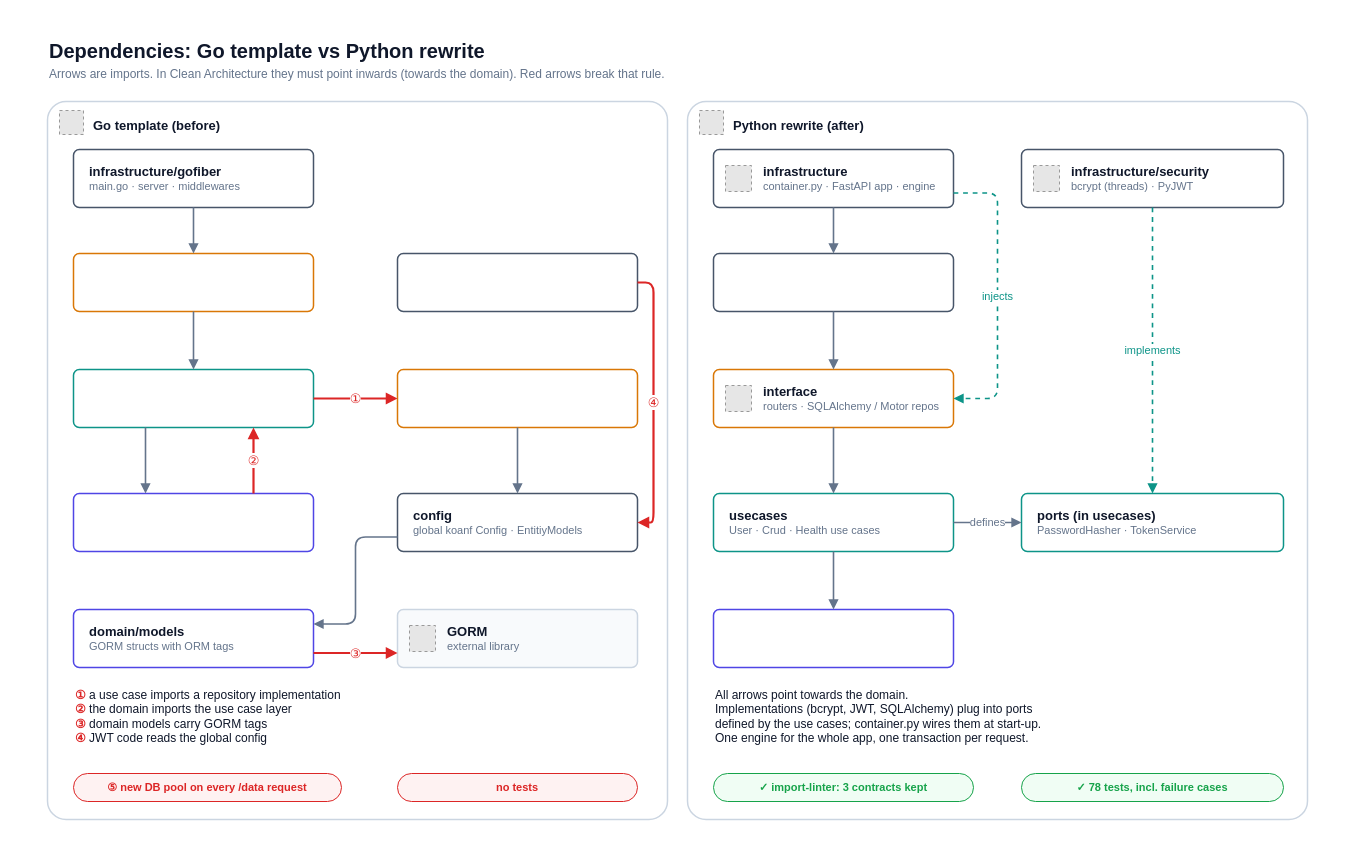
The diagram is 1354 pixels wide and 864 high, and some of its shapes have lost their labels. Grey dashed boxes stand in for pictures. The shapes that lost their labels are listed below. From the top down, each one's centre as x and y in pixels, then its label:
At (193,282): "interface/handlers CRUD handler builds its own use case".
At (517,282): "shared/authentication JWT sign / parse".
At (833,282): "config typed Settings · model registry".
At (193,398): "usecases crudUsecase · userUsecase".
At (517,398): "interface/repositories/crud GetCRUDRepository()".
At (193,522): "domain/entities application.go".
At (833,638): "domain dataclasses · interfaces · errors".
